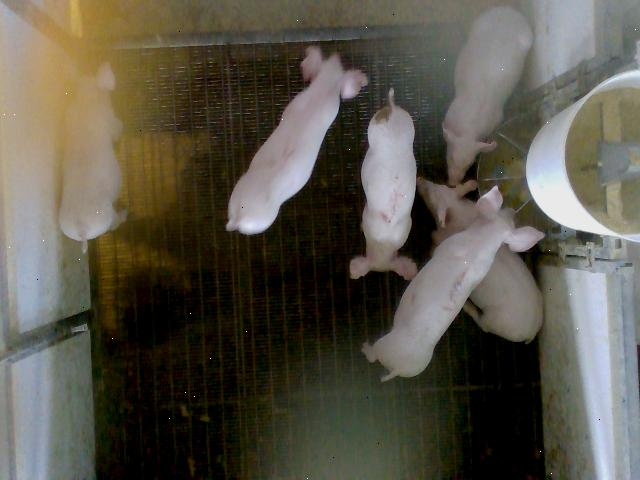pig-3: (362, 187, 544, 381)
pig-4: (59, 63, 126, 252)
pig-5: (350, 89, 418, 280)
